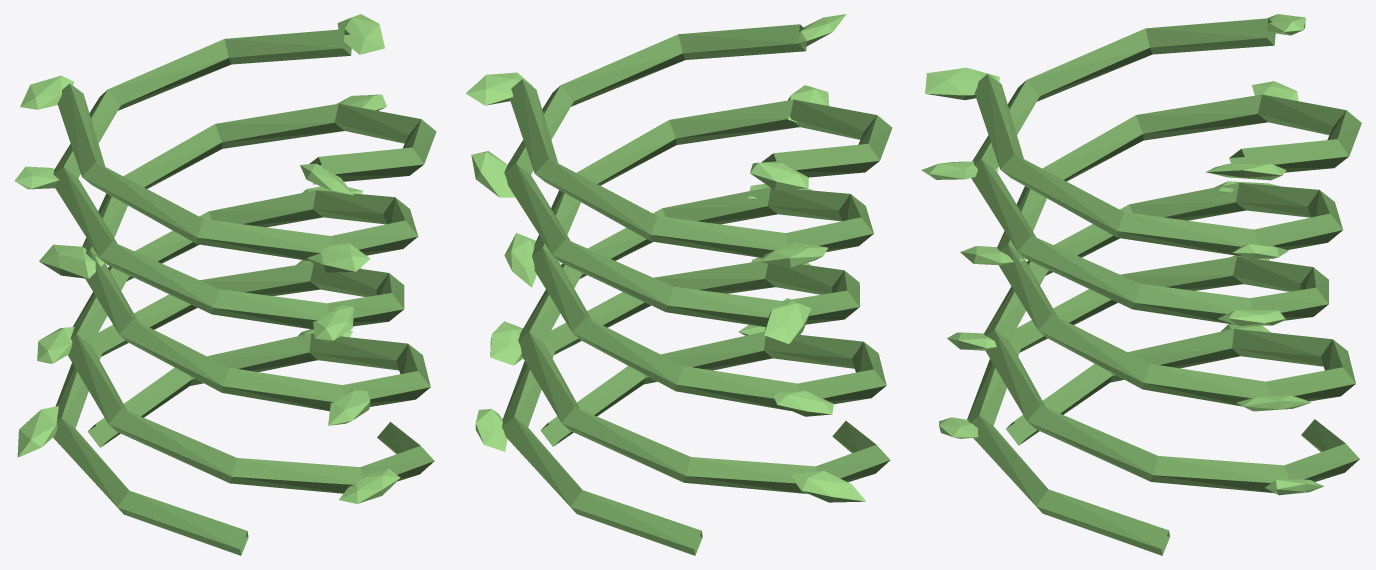
Rendered from ob_vine2.glb.
3 renders of one model, left to right at view 1: azimuth 30°, elevation 25°; view 2: azimuth 150°, elevation 25°; view 3: azimuth 270°, elevation 25°, orthographic. The views are drawn at different scales.
Size of the model in its own units: 1.34 by 1.34 by 1.33.
